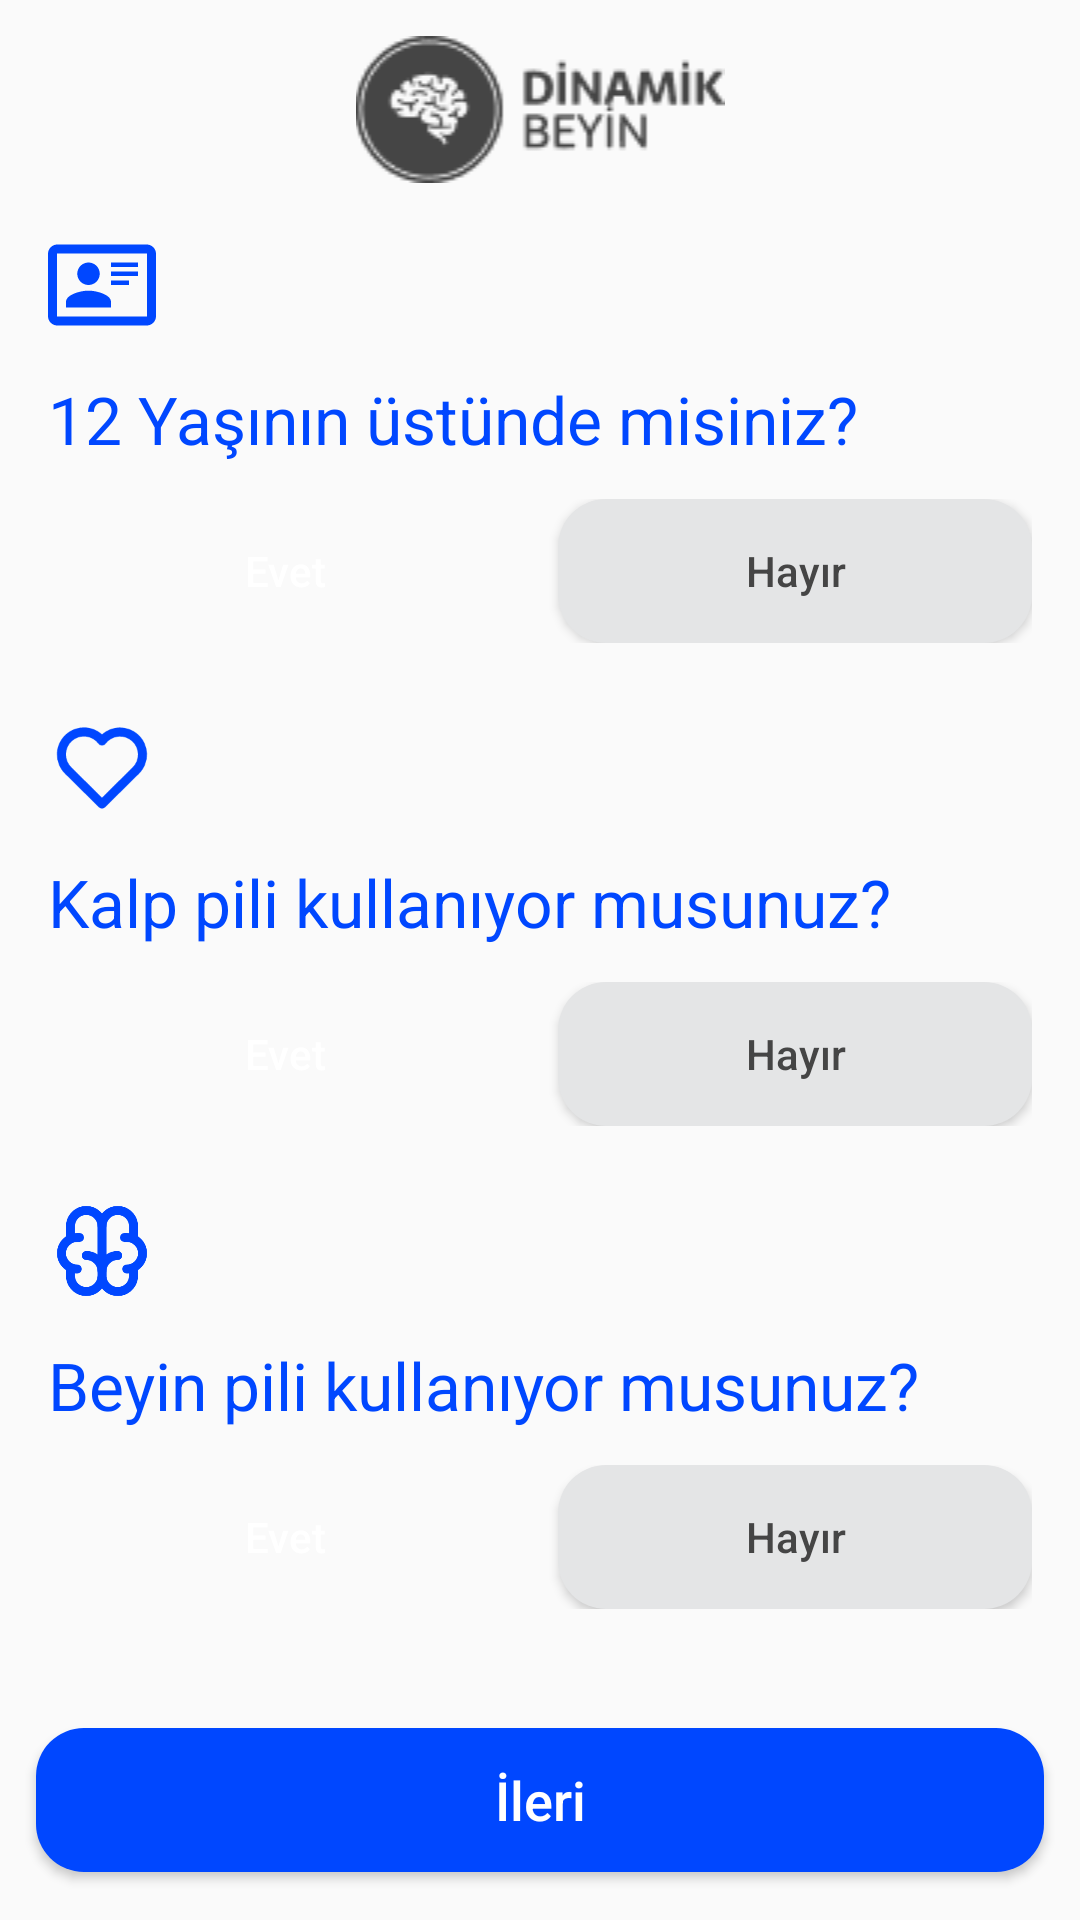

Screen size 1080*1920. Icon name, then its center in pixels as point (x, y):
ikon first setup brain: point (102, 1251)
ikon first setup card: point (102, 285)
ikon first setup heart: point (102, 768)
